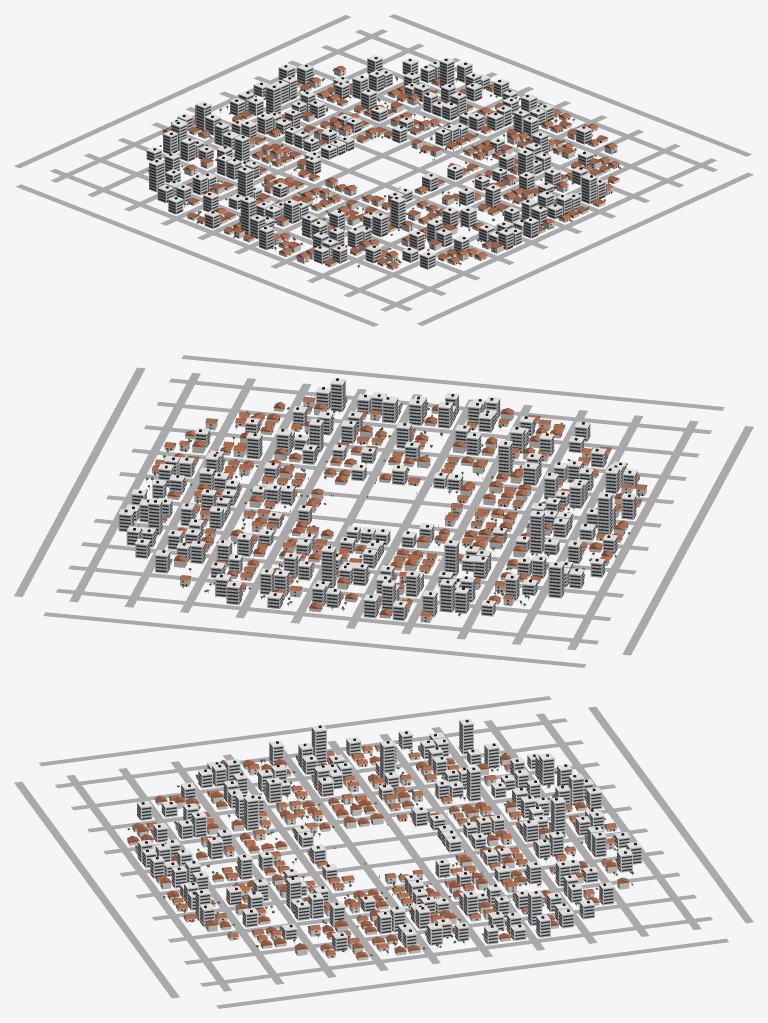
Rendered from entorno.glb.
3 renders of one model, top to bottom at view 1: azimuth 30°, elevation 25°; view 2: azimuth 150°, elevation 25°; view 3: azimuth 270°, elevation 25°, orthographic. The views are drawn at different scales.
Visible parts, largest first — view 1: entorno_conc, entorno_road, entorno_glass, entorno_roof, entorno_frame, entorno_green; view 2: entorno_conc, entorno_road, entorno_glass, entorno_roof, entorno_frame, entorno_green; view 3: entorno_conc, entorno_road, entorno_glass, entorno_roof, entorno_frame, entorno_green.
Boxes of the visible parts, x1=… form: entorno_conc: x1=146, y1=55, x2=619, y2=269; entorno_road: x1=14, y1=14, x2=753, y2=326; entorno_glass: x1=147, y1=59, x2=616, y2=268; entorno_roof: x1=157, y1=66, x2=619, y2=267; entorno_frame: x1=153, y1=57, x2=618, y2=266; entorno_green: x1=147, y1=69, x2=620, y2=267; entorno_conc: x1=118, y1=378, x2=646, y2=622; entorno_road: x1=14, y1=355, x2=753, y2=667; entorno_glass: x1=119, y1=381, x2=639, y2=621; entorno_roof: x1=151, y1=397, x2=647, y2=616; entorno_frame: x1=124, y1=378, x2=642, y2=615; entorno_green: x1=137, y1=400, x2=640, y2=615; entorno_conc: x1=127, y1=718, x2=642, y2=960; entorno_road: x1=14, y1=696, x2=753, y2=1008; entorno_glass: x1=128, y1=722, x2=641, y2=957; entorno_roof: x1=127, y1=742, x2=629, y2=957; entorno_frame: x1=133, y1=719, x2=636, y2=954; entorno_green: x1=127, y1=745, x2=633, y2=955.
Size of the model in its own units: 623 by 34.92 by 623.
